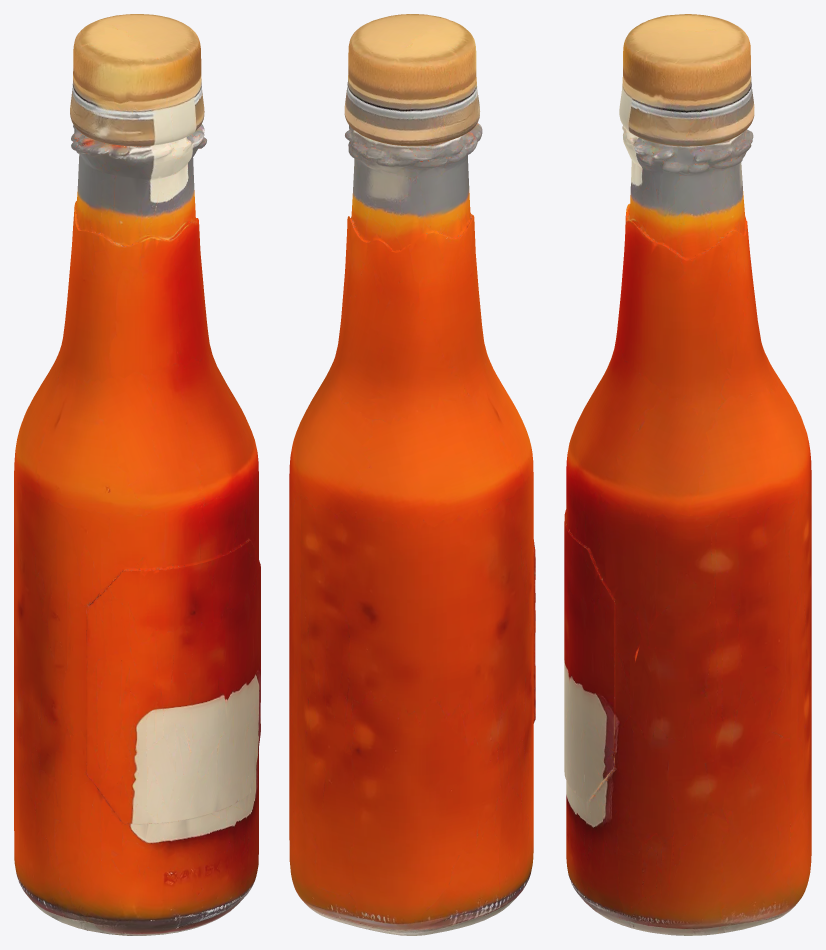
The model's file is kitchen-hot-sauce-08.glb.
3 renders of one model, left to right at view 1: azimuth 30°, elevation 25°; view 2: azimuth 150°, elevation 25°; view 3: azimuth 270°, elevation 25°, orthographic.
Bounding box in the file's own units: 0.4882 × 1.9 × 0.494.
1 material, 1 textured.
